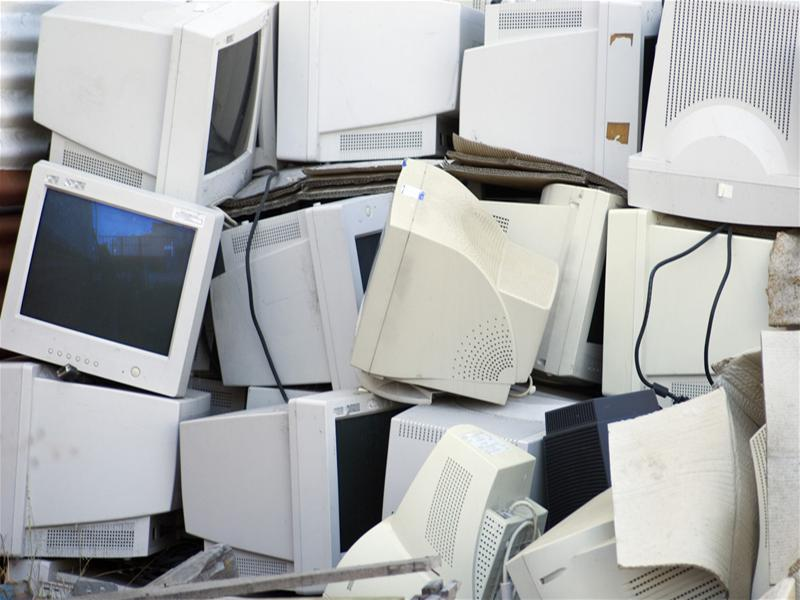tv_pc: (1, 153, 227, 402), (348, 155, 563, 406), (28, 1, 268, 207), (1, 358, 212, 576), (177, 387, 402, 569), (629, 1, 800, 230), (457, 2, 648, 200), (599, 210, 772, 402)
